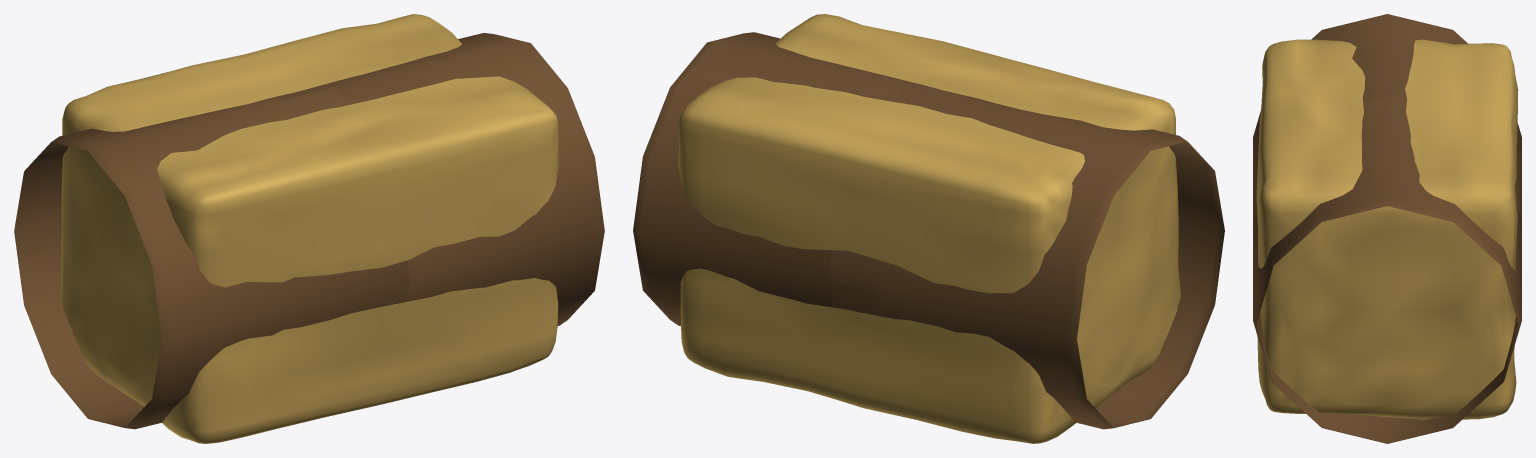
The model's file is hay_bale.glb.
The picture shows the model from 3 angles, left to right: view 1: azimuth 30°, elevation 25°; view 2: azimuth 150°, elevation 25°; view 3: azimuth 270°, elevation 25°; orthographic projection. The views are drawn at different scales.
Parts seen in each view (by area): view 1: hay_bale; view 2: hay_bale; view 3: hay_bale.
Boxes of the visible parts, <box> form: hay_bale: <box>14,14,604,443</box>; hay_bale: <box>633,14,1224,443</box>; hay_bale: <box>1253,14,1521,443</box>.
Size of the model in its own units: 1.42 by 0.84 by 0.84.
